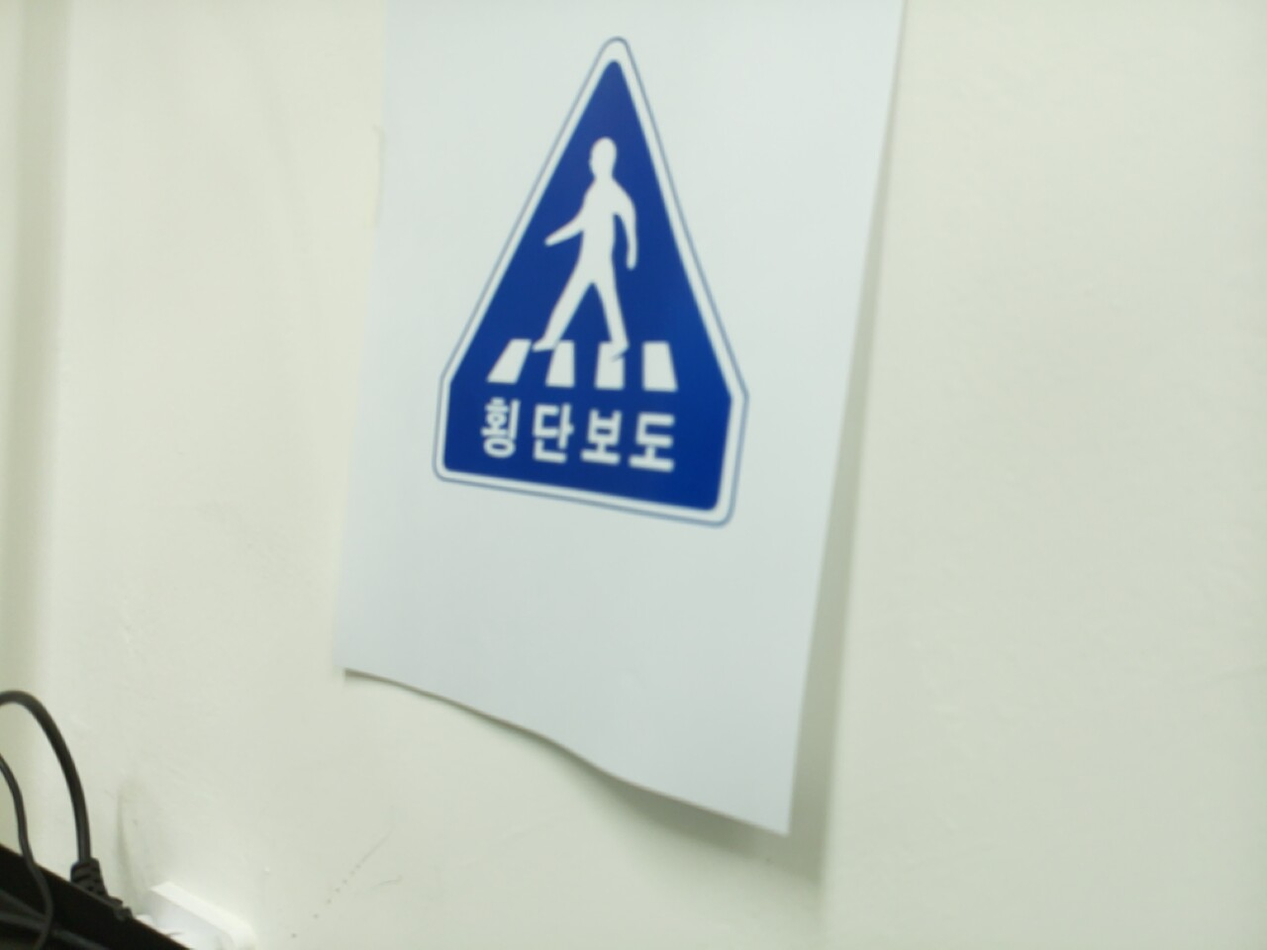crosswalk: (435, 48, 740, 523)
